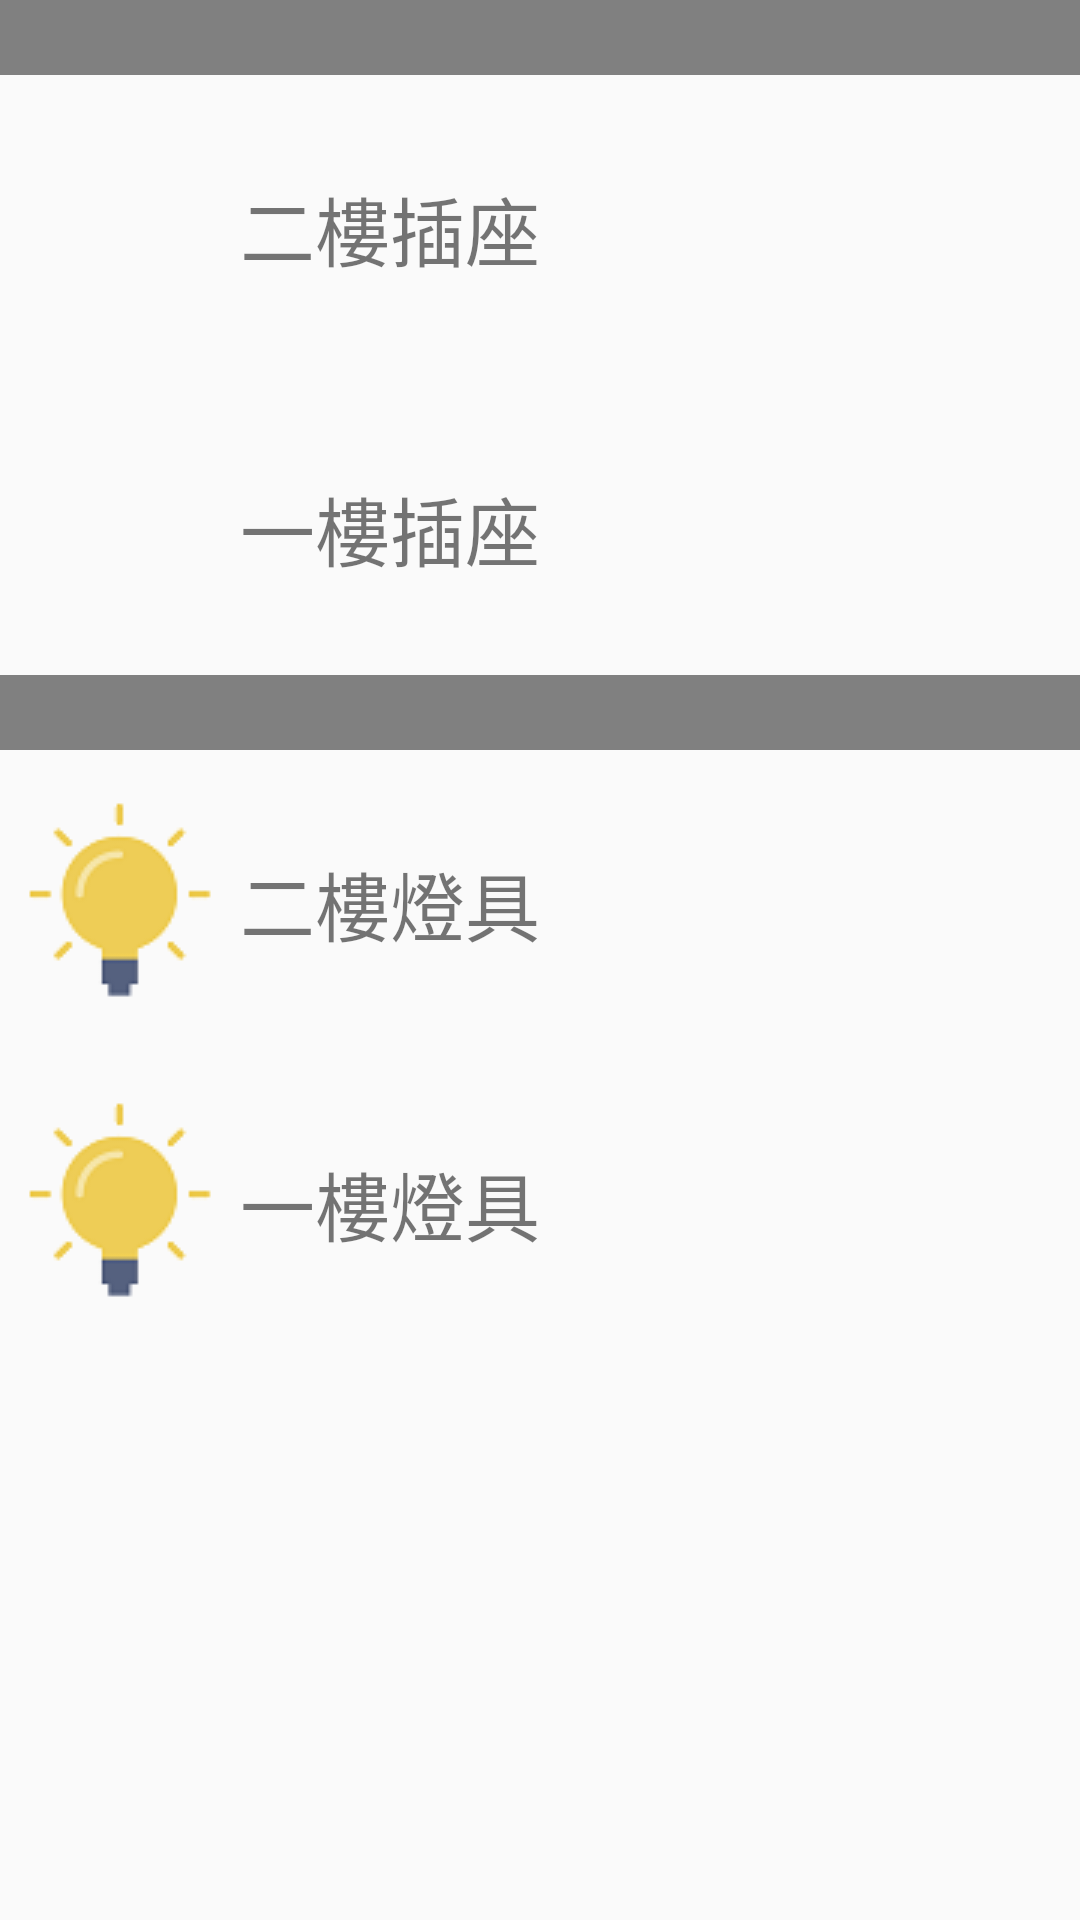

Point at icon controls on the screen. Image size 1080×1920, points as (x,y).
lighton: (120,900), (120,1200)
